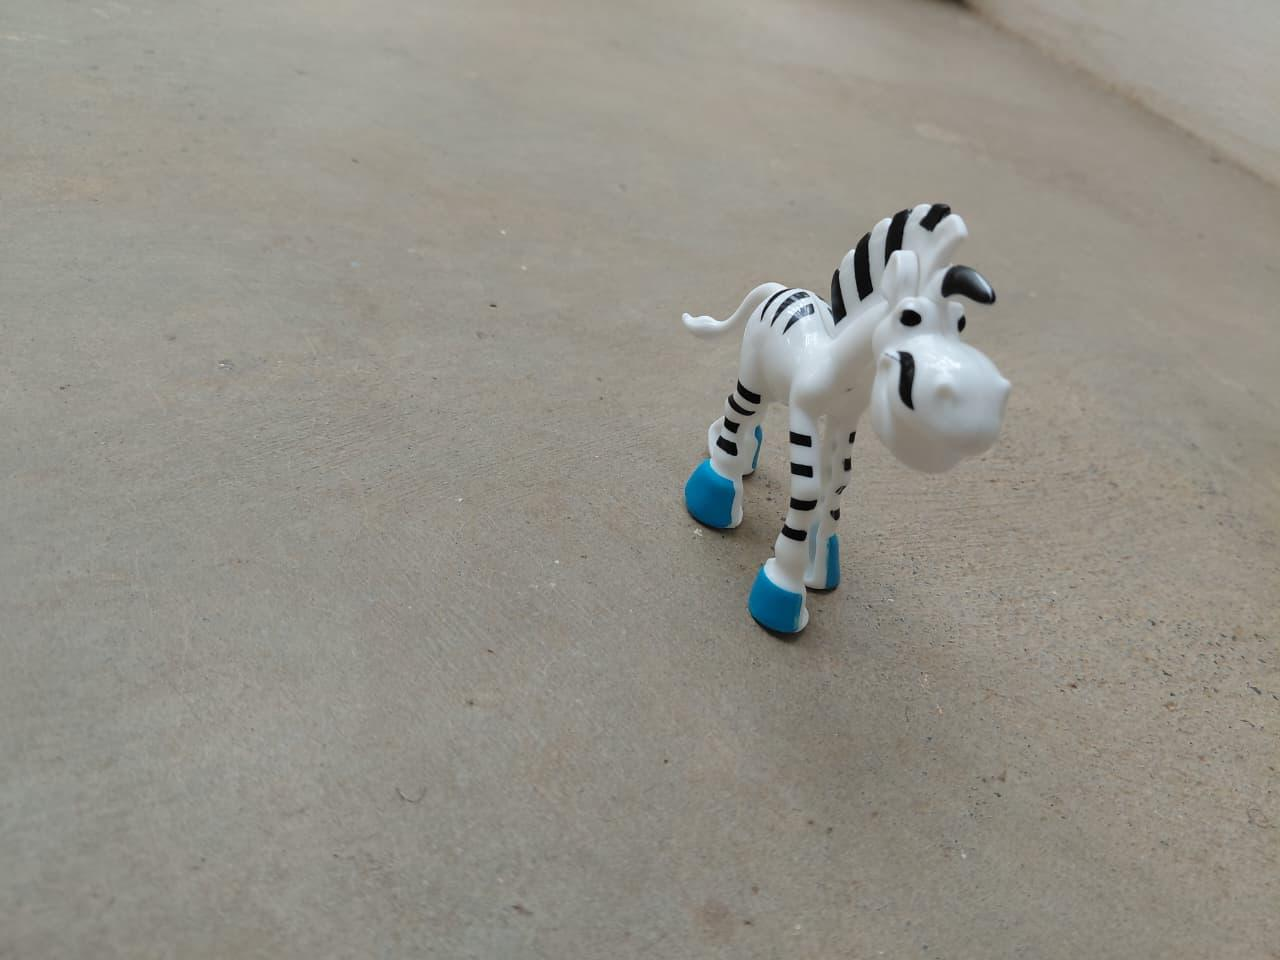zebra: (672, 205, 1008, 645)
